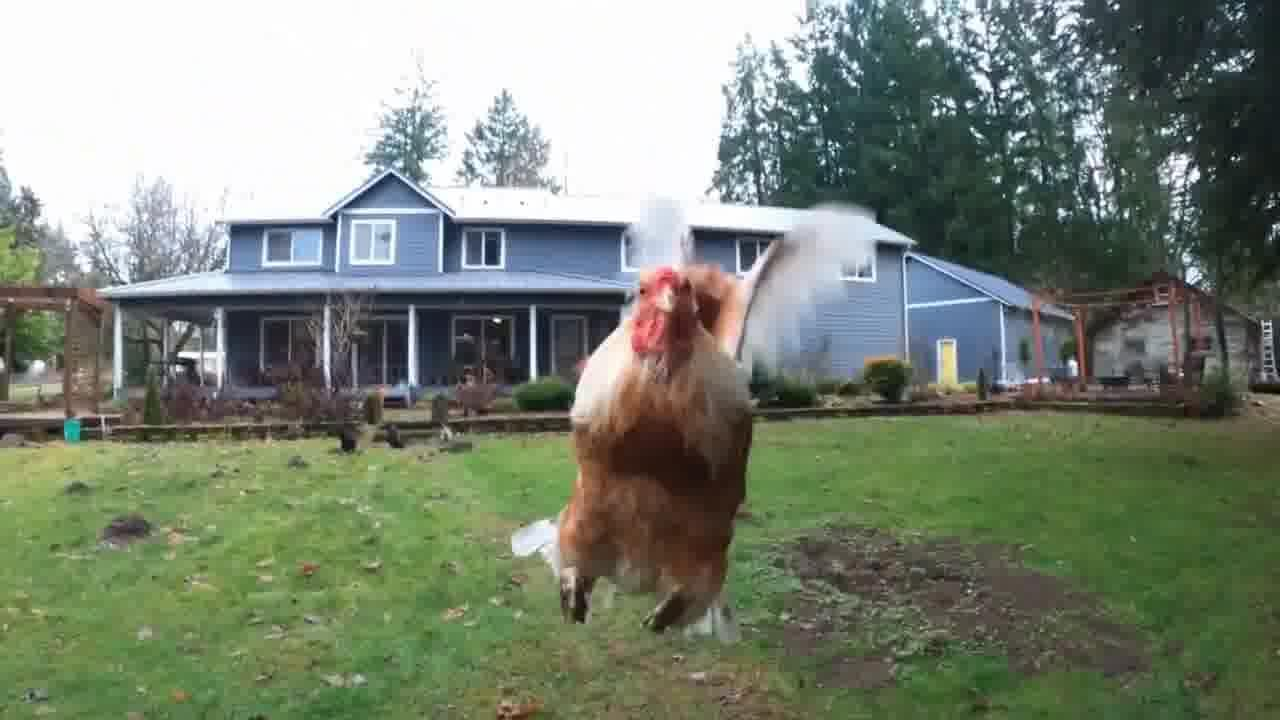Normal: (520, 178, 862, 630)
